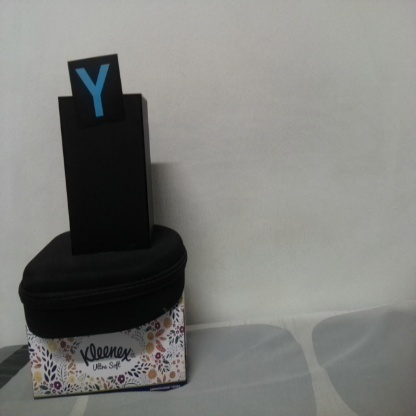id_14: (68, 61, 122, 122)
